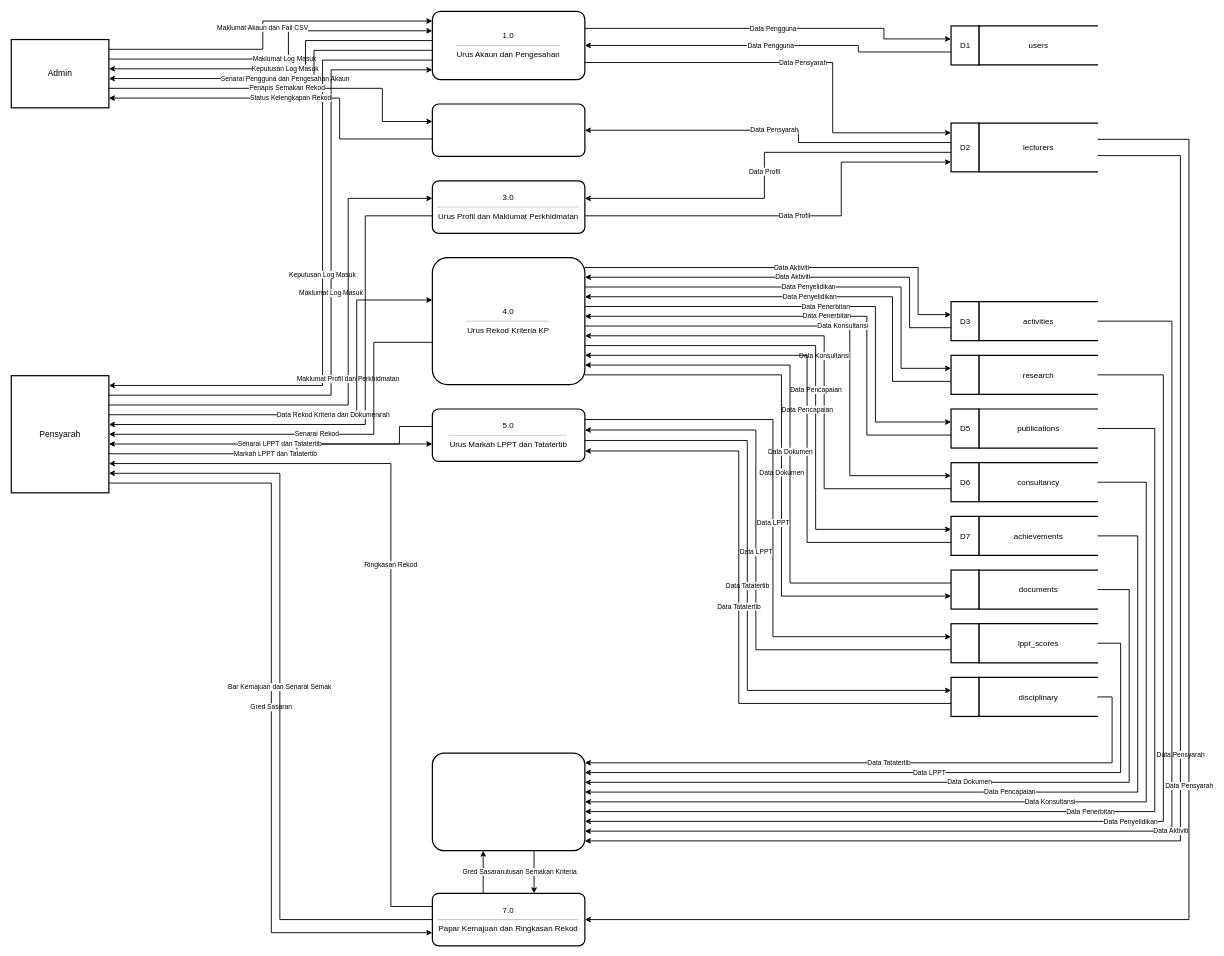
Some shapes in this 1224 by 956 pixel diagram are drawn without their labels. The centre of each missing label's shape, as x and y in pixels:
"2.0 Semak Kelengkapan Rekod Pensyarah" belongs at (x=508, y=130).
"6.0 Semak Kriteria Kenaikan Pangkat" belongs at (x=508, y=801).
"D10" belongs at (x=964, y=696).
"D4" belongs at (x=964, y=374).
"D8" belongs at (x=964, y=589).
"D9" belongs at (x=964, y=643).
